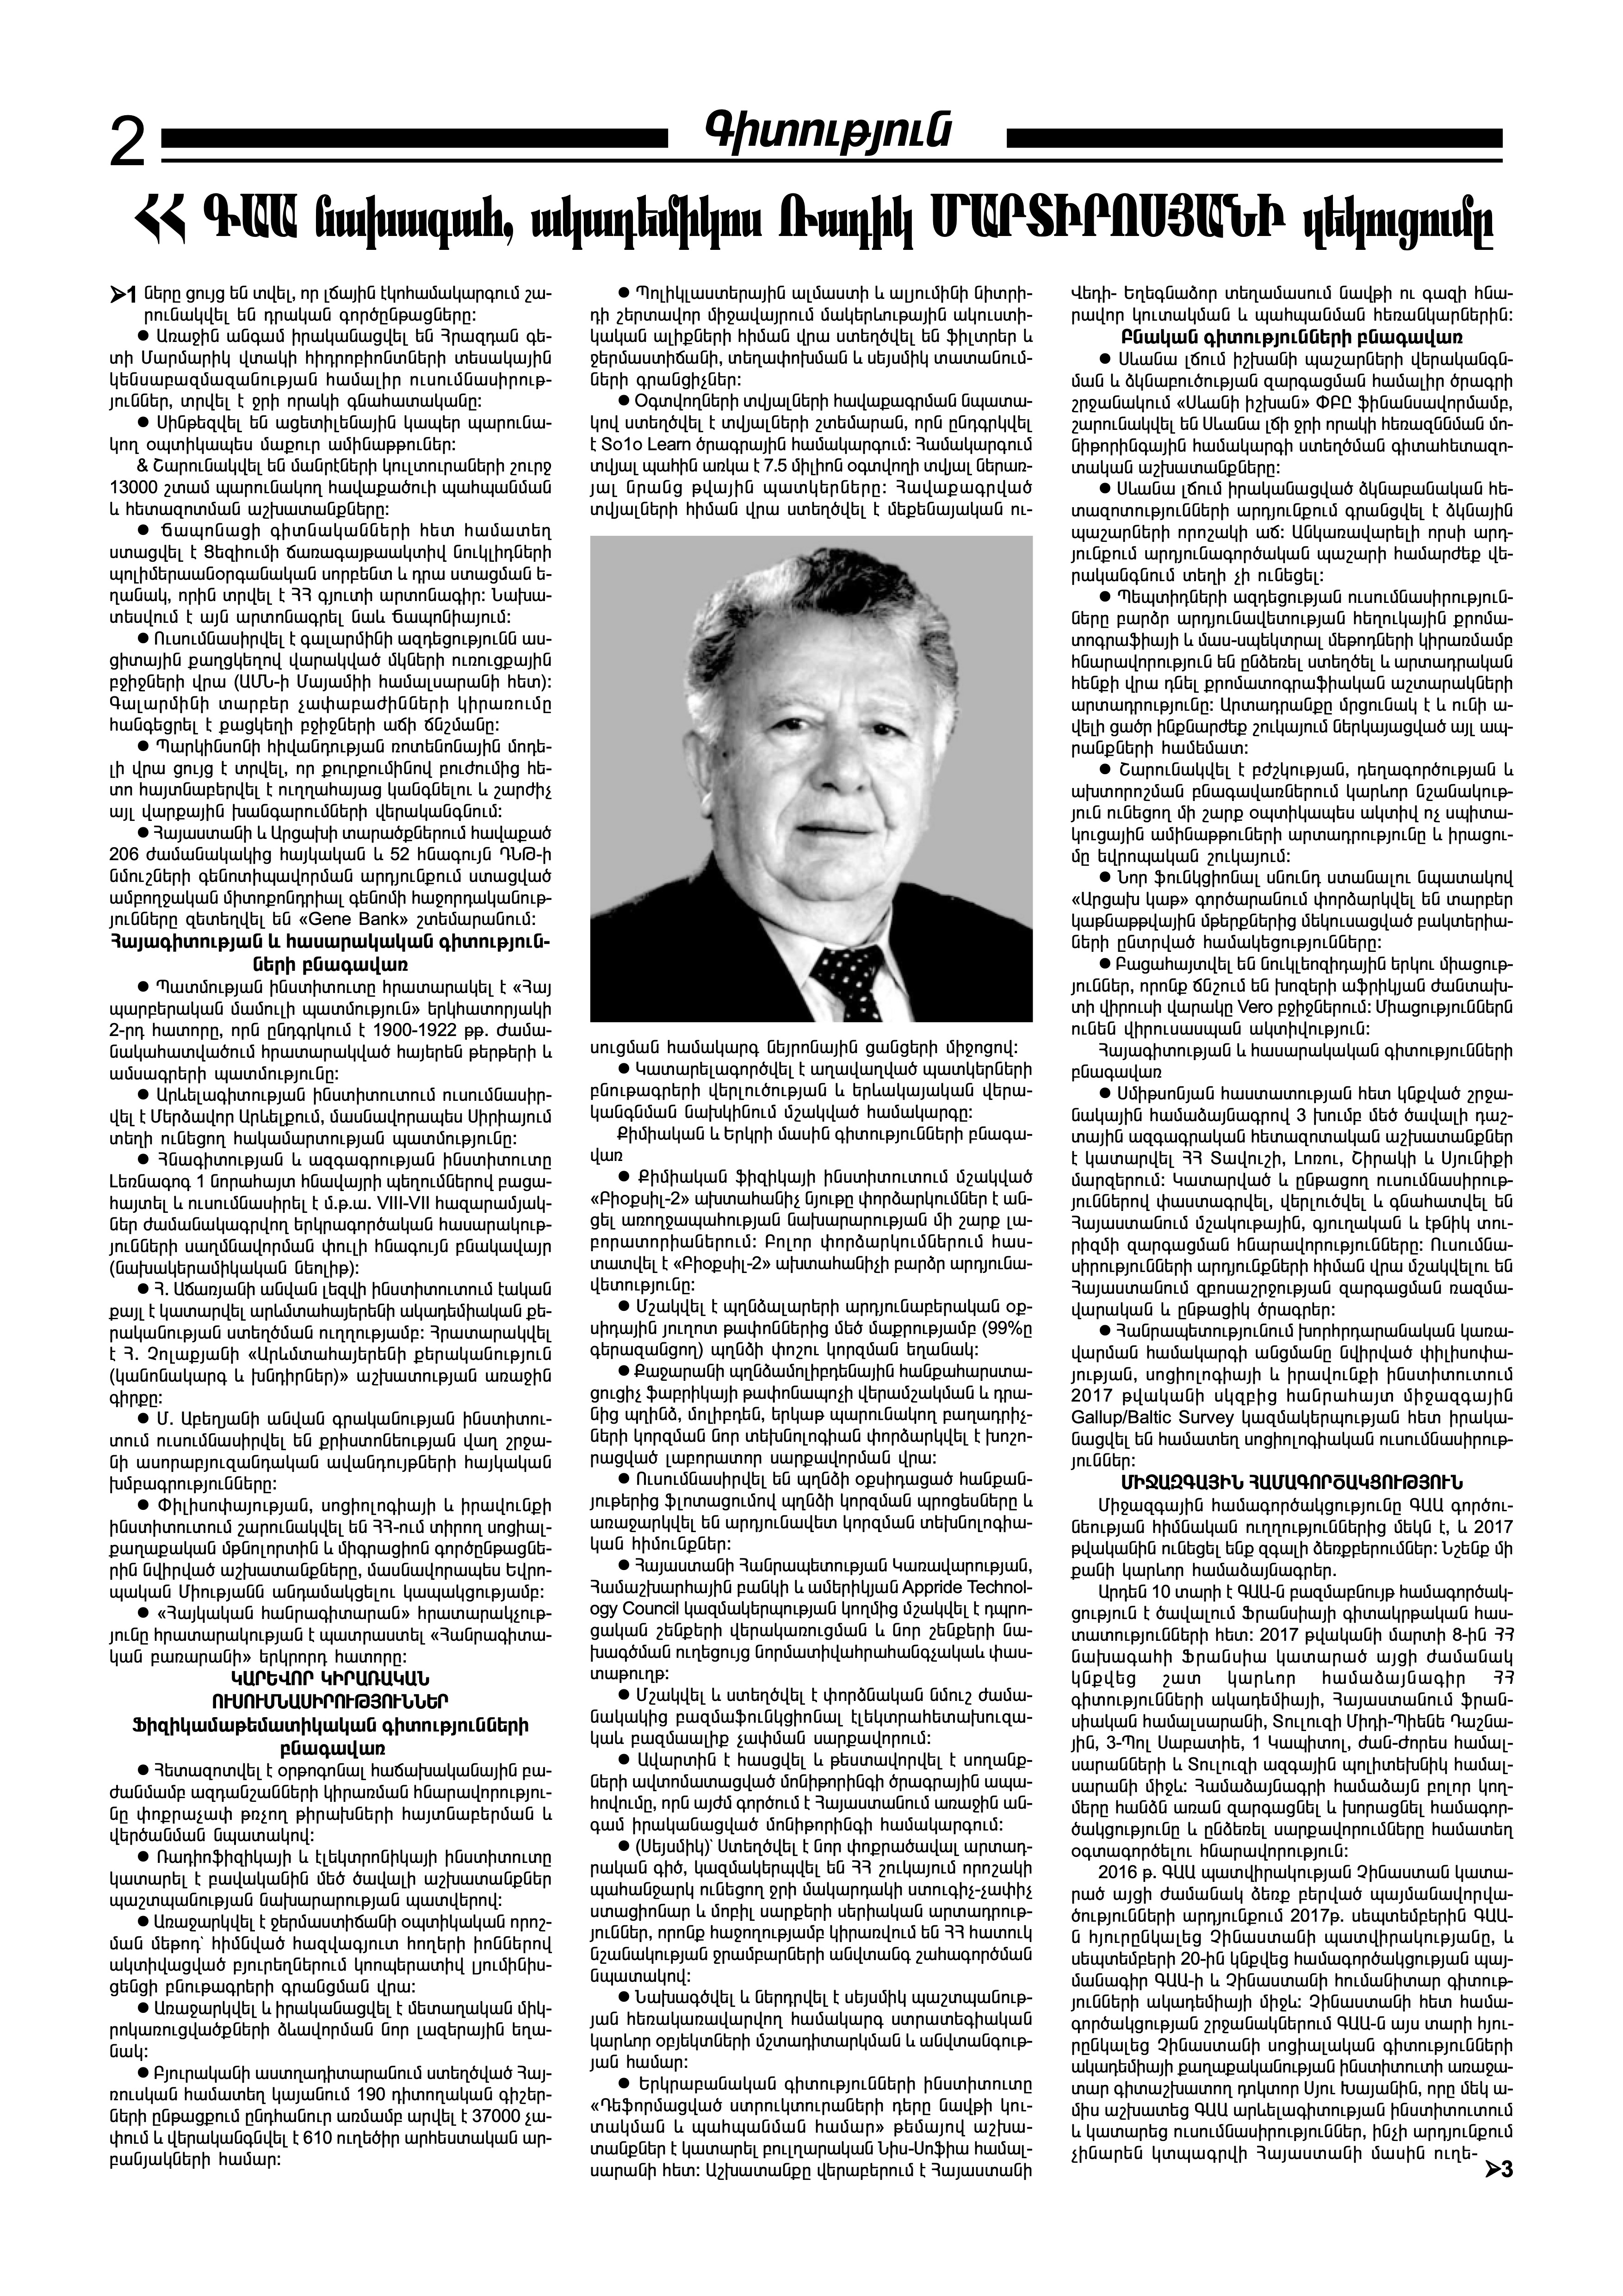person: (586, 529, 1042, 1029)
